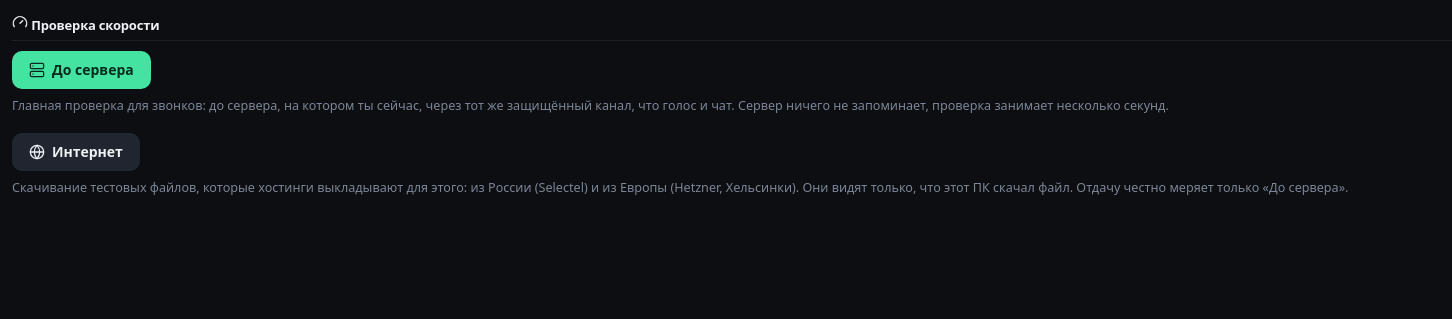
«Сеть»: the speed test › says when a VPN is on: every speed test then measures the VPN
The image size is (1452, 319).
Click the button "Интернет" at (76, 152), box [12,133,140,171]
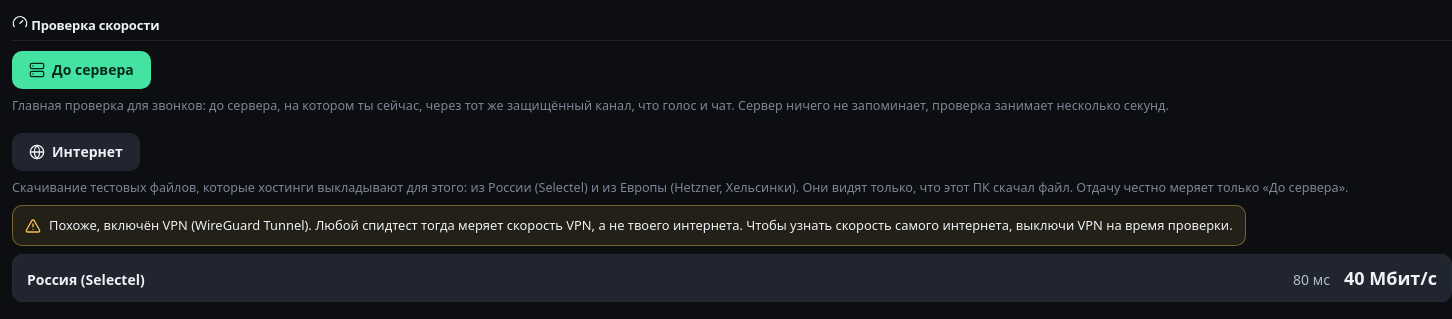
Now the text "Похоже, включён VPN" shows "WireGuard Tunnel", box [195,216,304,234]
